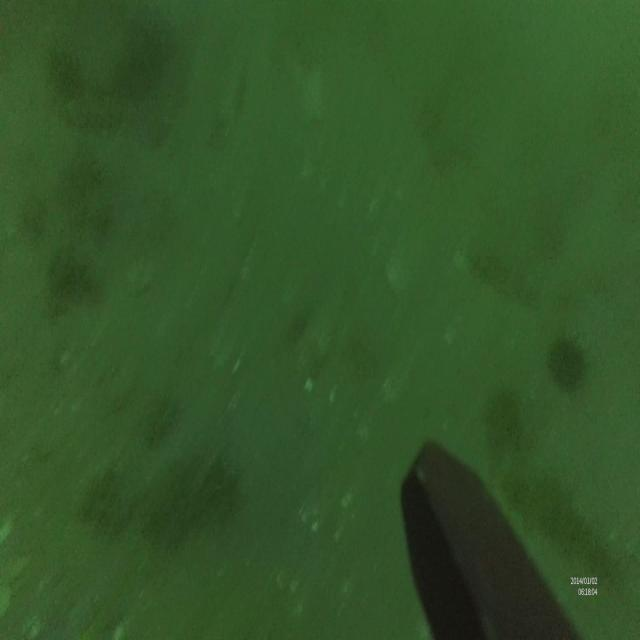echinus: (546, 332, 589, 396)
